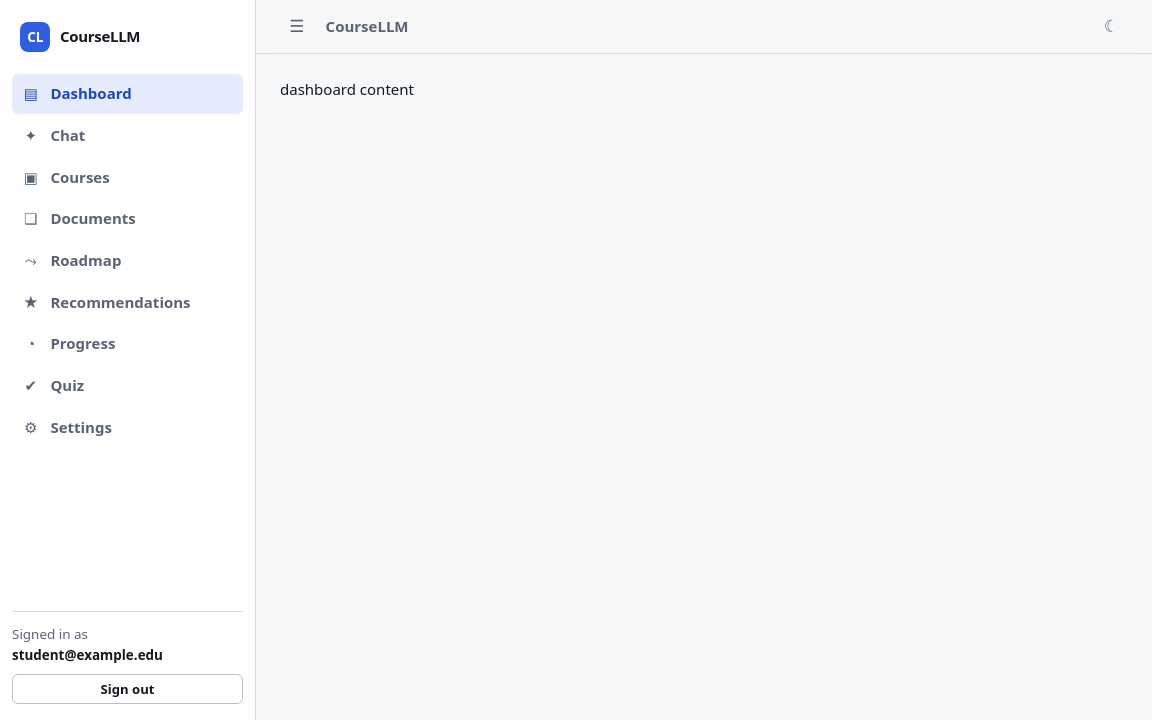
Test: dark mode › toggles the dark class on <html>
Click the button named "Switch to dark theme".
click(1111, 26)  # box [1094,10,1128,43]
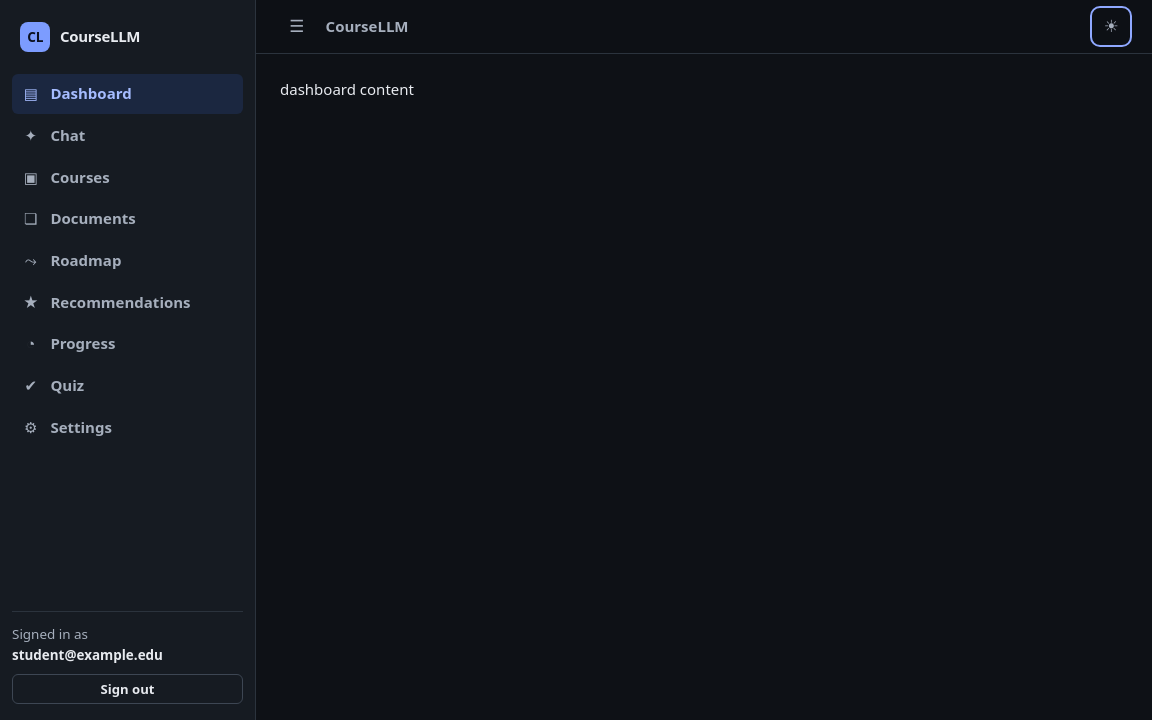
expect the button named "Switch to light theme" is shown: met, box [1094,10,1128,43]
